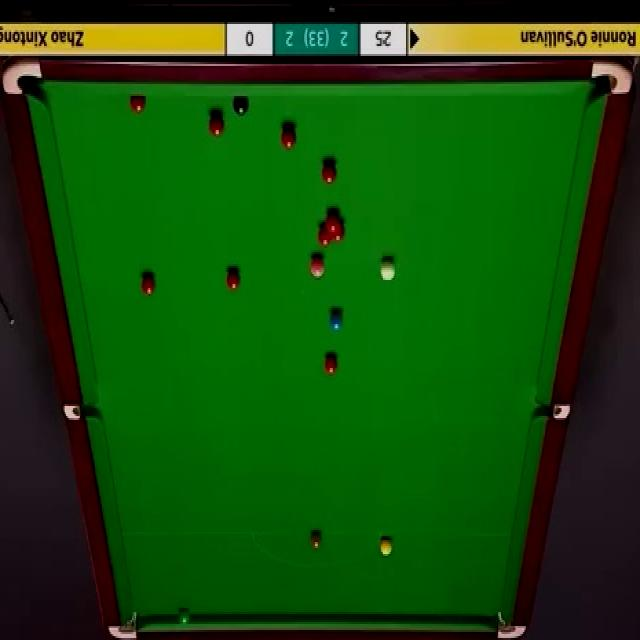black-ball: (232, 96, 249, 116)
blue-ball: (329, 306, 344, 332)
brown-ball: (309, 528, 323, 552)
green-ball: (178, 607, 190, 627)
pink-ball: (309, 252, 325, 276)
red-ball: (321, 158, 338, 186), (208, 112, 226, 137), (280, 125, 298, 149), (225, 268, 240, 292), (141, 272, 155, 296), (326, 212, 341, 234), (129, 96, 147, 114), (324, 354, 338, 377), (318, 227, 332, 246), (332, 226, 344, 242)
white-ball: (379, 257, 396, 283)
yellow-ball: (380, 535, 393, 559)
